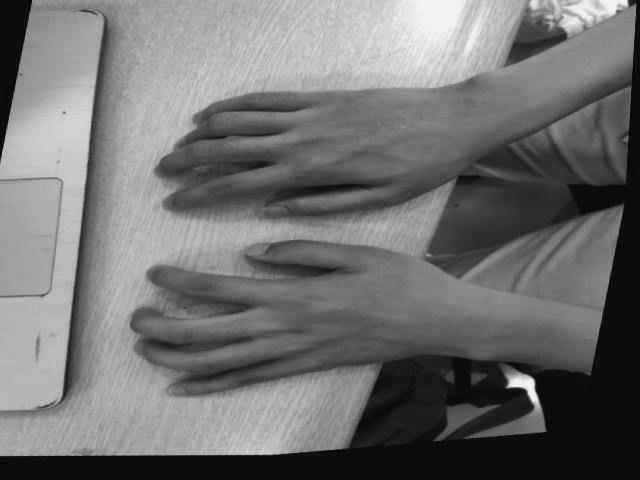not-gloved: (130, 240, 437, 398), (156, 84, 462, 217)
